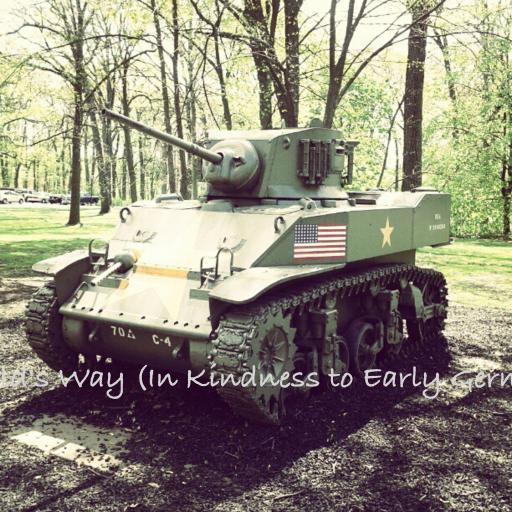Bradley Hand: (0, 363, 512, 399)
